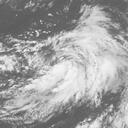cyclone: (33, 36, 99, 97)
